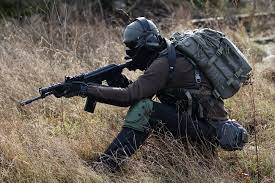gun: (13, 60, 147, 120)
